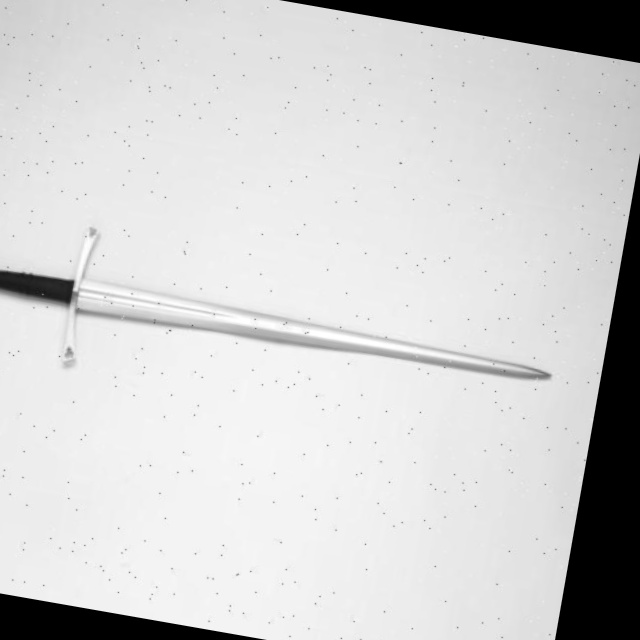Sharp-Object: (0, 244, 558, 411)
